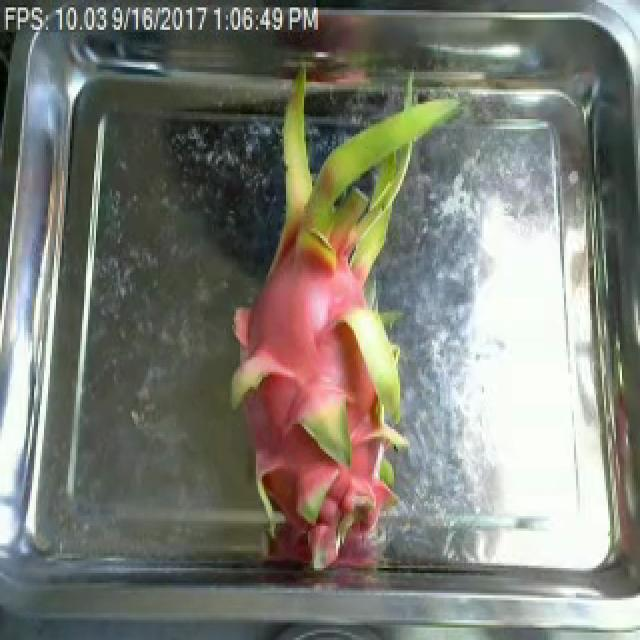fruit: (220, 196, 452, 588)
